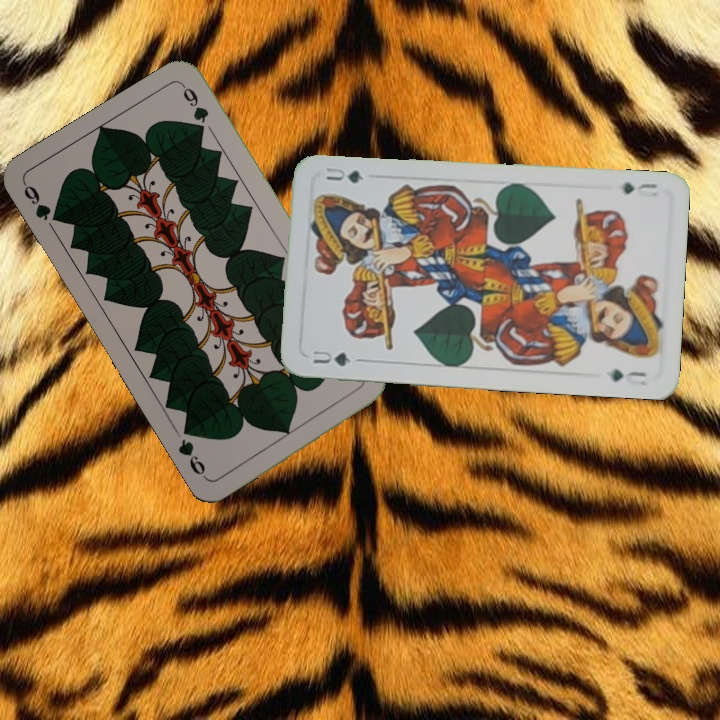G9: (19, 179, 66, 226)
GU: (309, 346, 354, 369), (618, 178, 660, 197)
